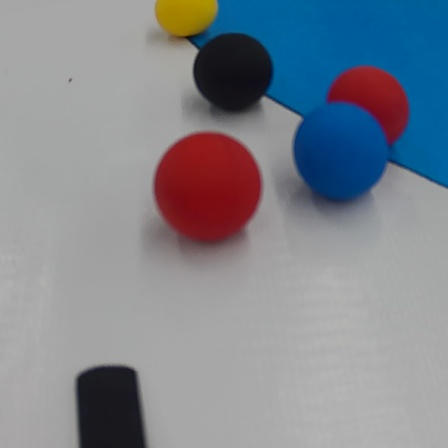black: (192, 31, 271, 111)
blue: (294, 107, 386, 201)
blue_base: (190, 0, 445, 195)
red: (154, 129, 261, 243), (326, 64, 410, 146)
yellow: (154, 0, 216, 39)
